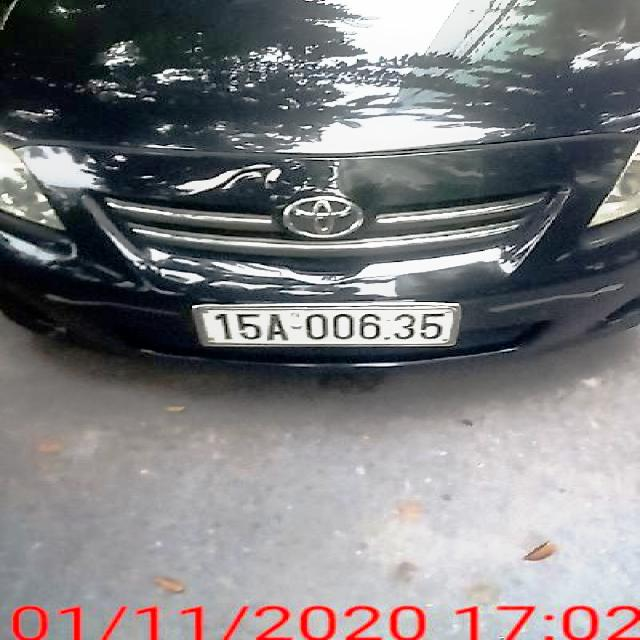license_plate: (198, 305, 456, 345)
